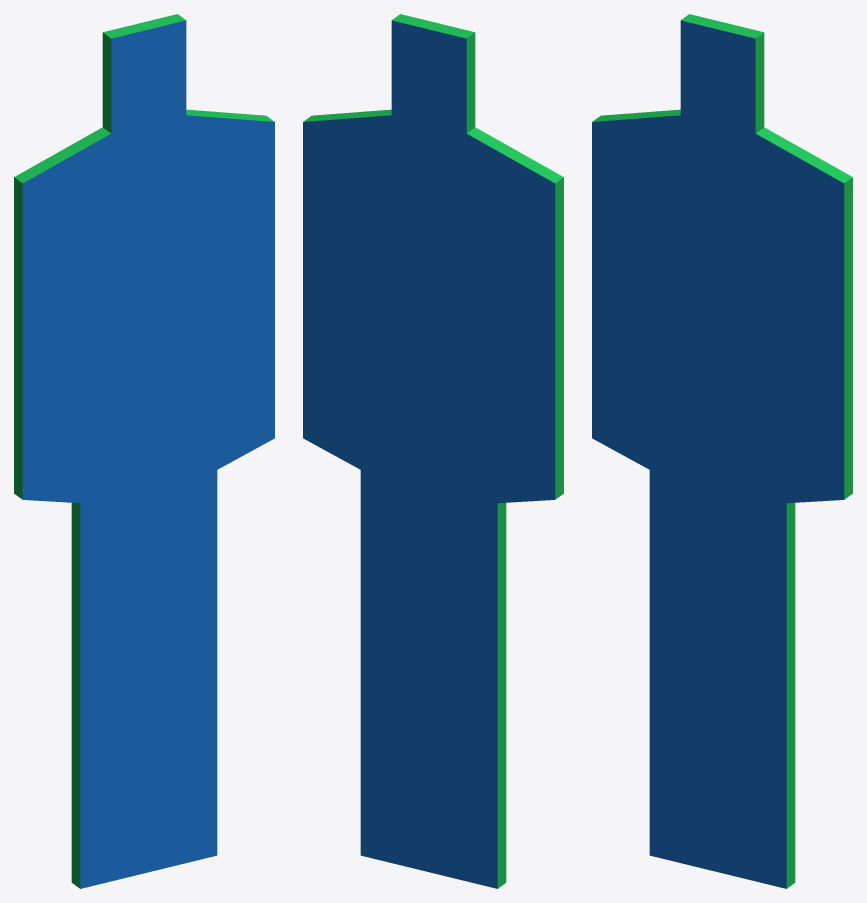
File: SM_plywood_fence_14.fbx
The picture shows the model from 3 angles, left to right: view 1: azimuth 30°, elevation 25°; view 2: azimuth 150°, elevation 25°; view 3: azimuth 330°, elevation 25°; orthographic projection.
Parts seen in each view (by area): view 1: Boole_3; view 2: Boole_3; view 3: Boole_3.
Part boxes in pixels (bbox=[...]): Boole_3: bbox=[14, 14, 274, 888]; Boole_3: bbox=[303, 14, 563, 888]; Boole_3: bbox=[592, 14, 852, 888].
Bounding box in the file's own units: 56.71 × 181 × 3.39.
